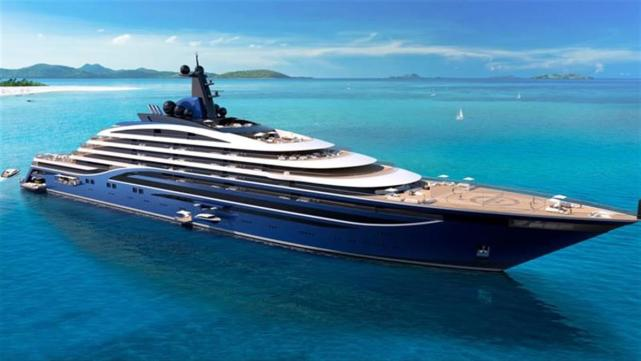yacht: (18, 52, 638, 276)
